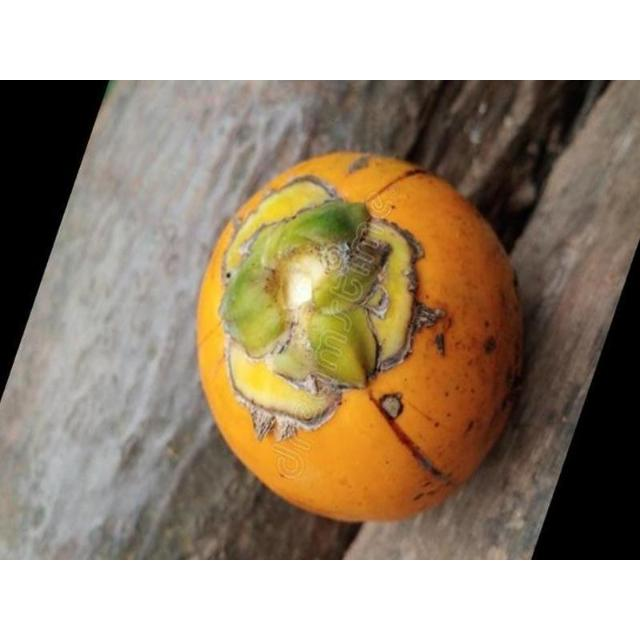good: (198, 152, 524, 525)
